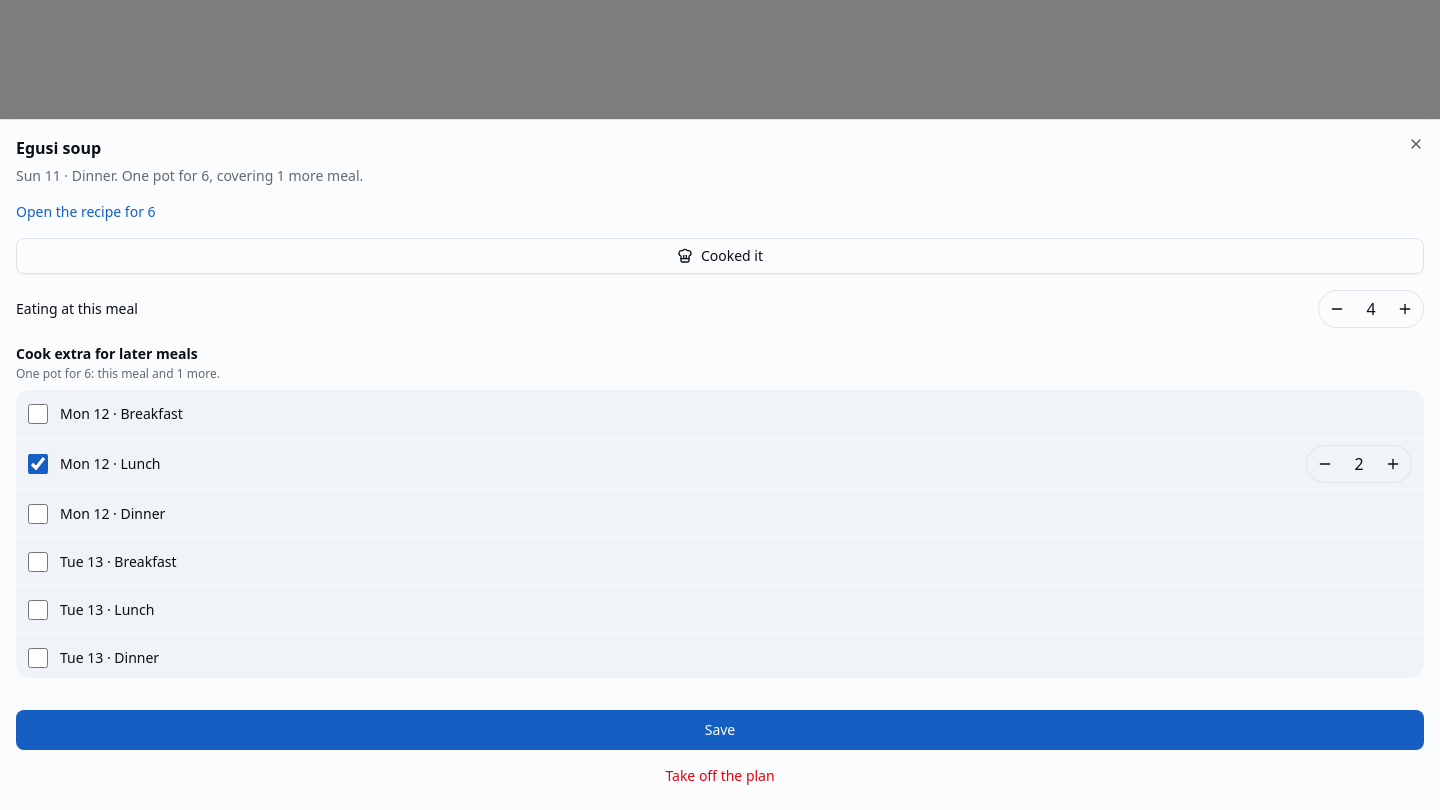
Test: MealSheet › shows a pot and its leftovers, and asks before taking them off
Expected: the dialog "Egusi soup" shows "One pot for 6, covering 1 more meal.", [114,166,363,185]
Expected: the checkbox labelled "Mon 12 · Lunch" is checked, [28,454,48,474]
Click the button "Take off the plan" at [720, 776], box [16,758,1424,794]
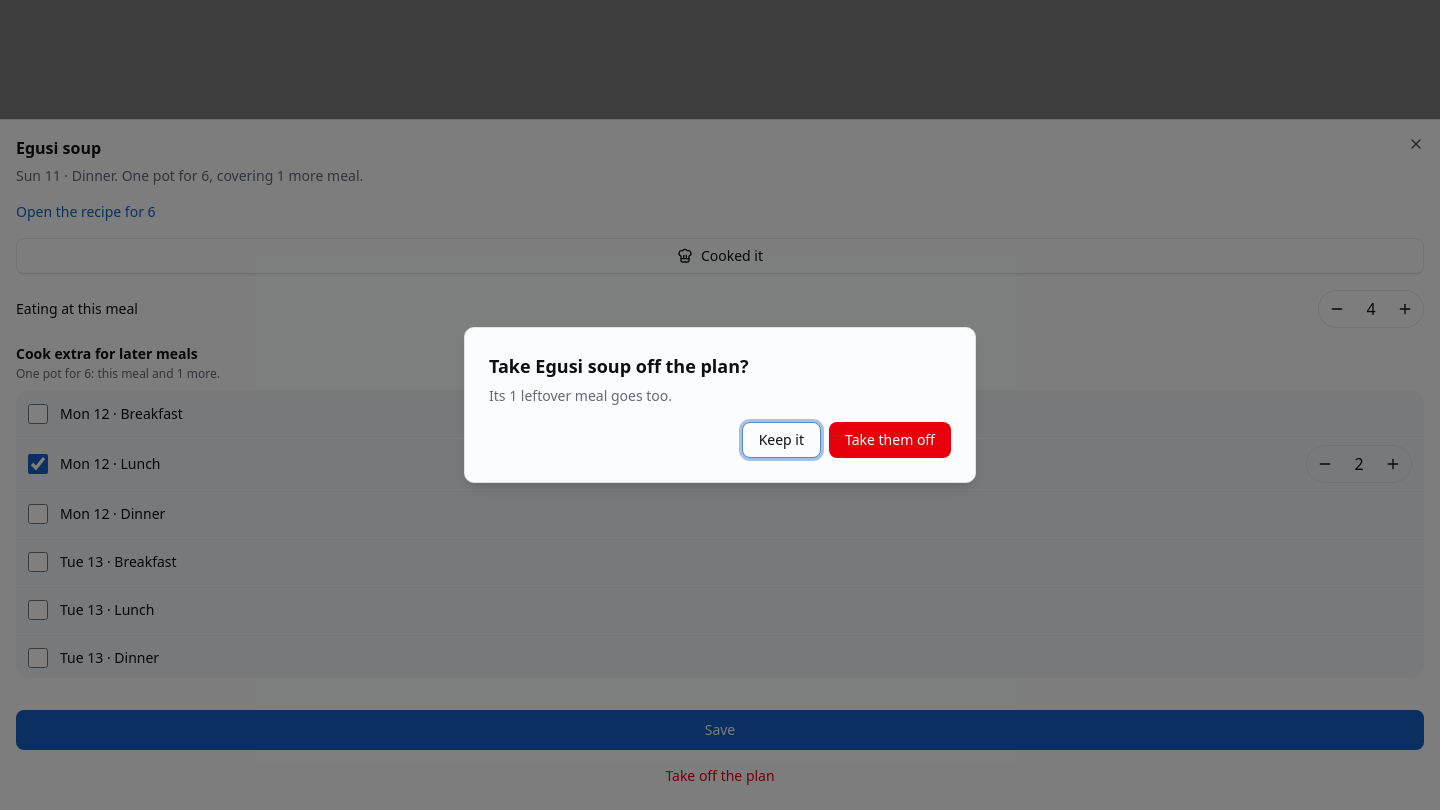
Result: the dialog "Take Egusi soup off the plan?" shows "Its 1 leftover meal goes too." at [464,327,976,483]
